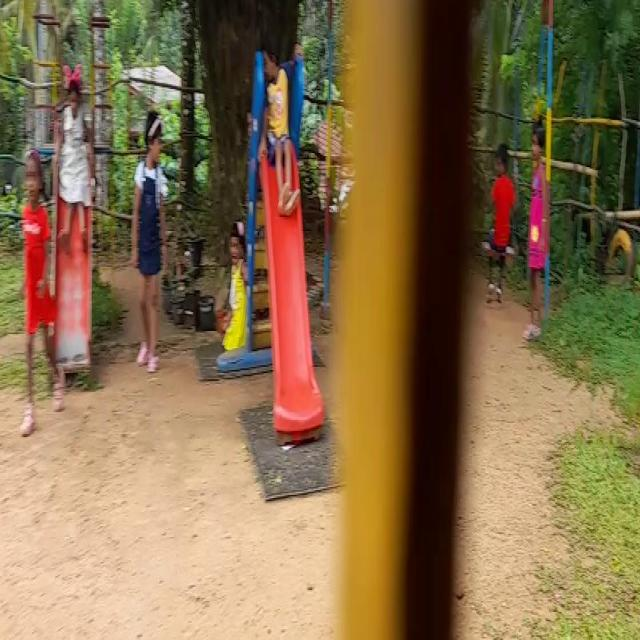child: (20, 150, 66, 434), (132, 110, 166, 375), (259, 39, 299, 217), (57, 62, 92, 244), (523, 113, 550, 345), (486, 139, 516, 310), (218, 222, 250, 357)
